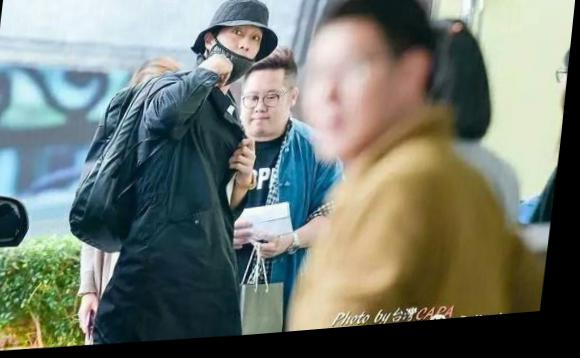NONE: (300, 62, 396, 159), (242, 92, 293, 142)
WRONG: (205, 25, 264, 85)
